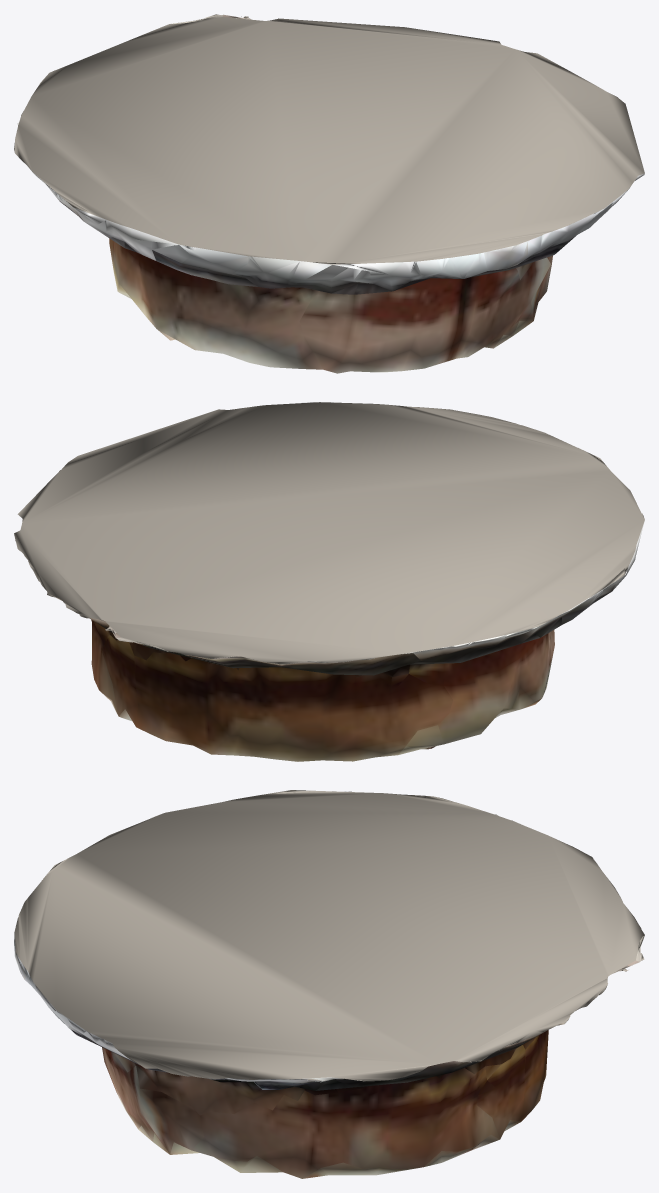
File: cake_1554.obj
3 renders of one model, top to bottom at view 1: azimuth 30°, elevation 25°; view 2: azimuth 150°, elevation 25°; view 3: azimuth 270°, elevation 25°, orthographic. The views are drawn at different scales.
Size of the model in its own units: 0.1769 by 0.0547 by 0.1767.
1 material, 1 textured.
